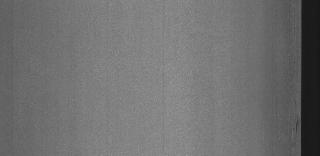silk spot: (268, 104, 300, 148)
